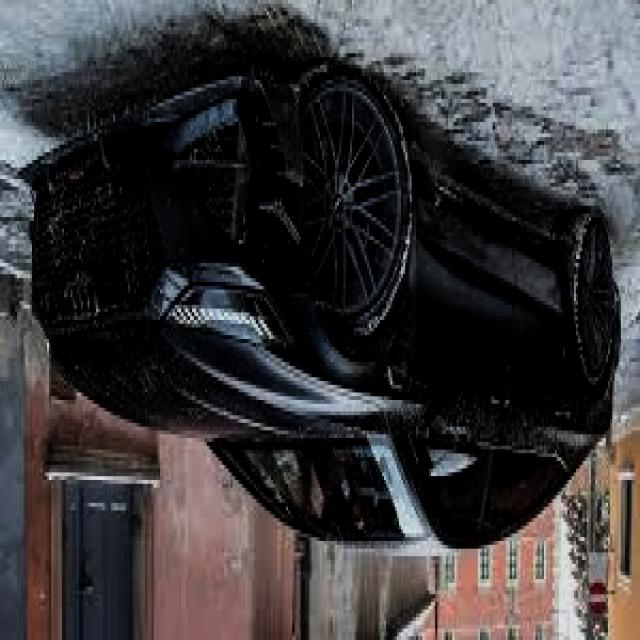black: (33, 53, 620, 553)
